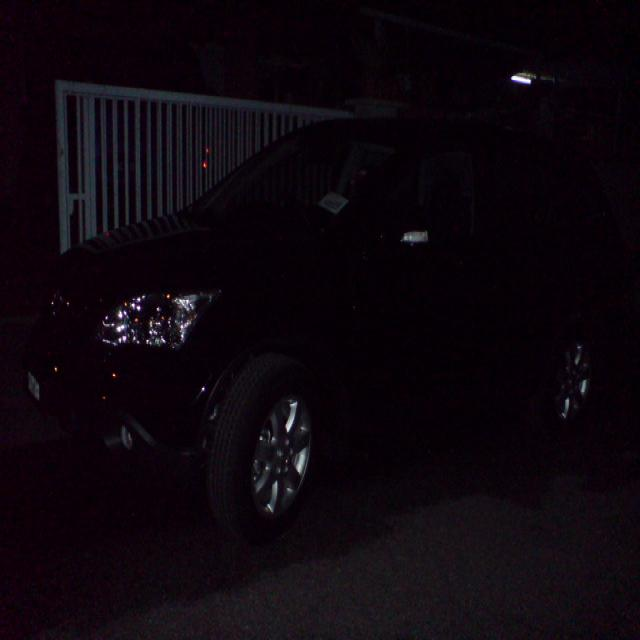car: (52, 112, 640, 544)
